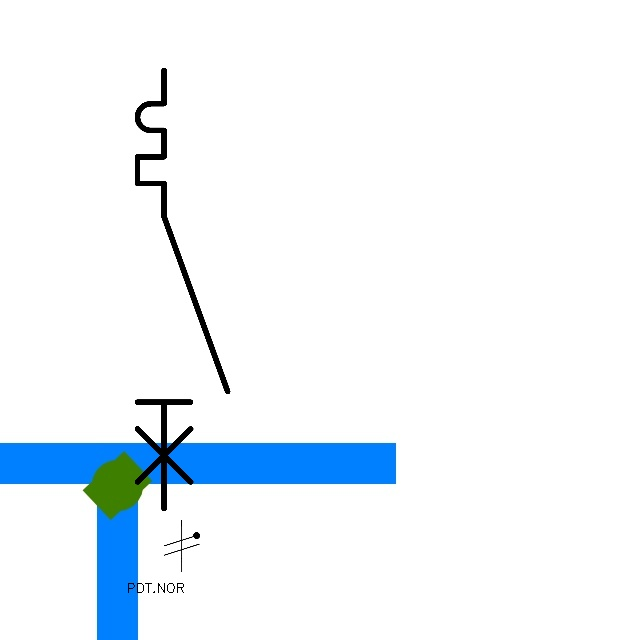interruptor_termomagnetico: (126, 59, 238, 519)
